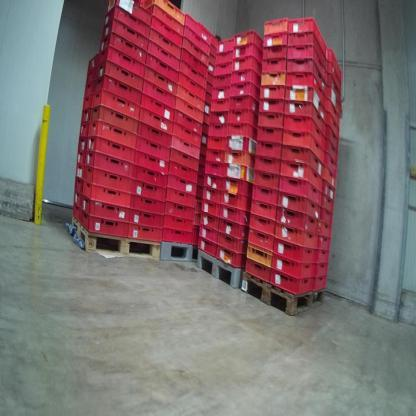pallets: (155, 239, 244, 296), (70, 215, 162, 261), (241, 271, 326, 316)
